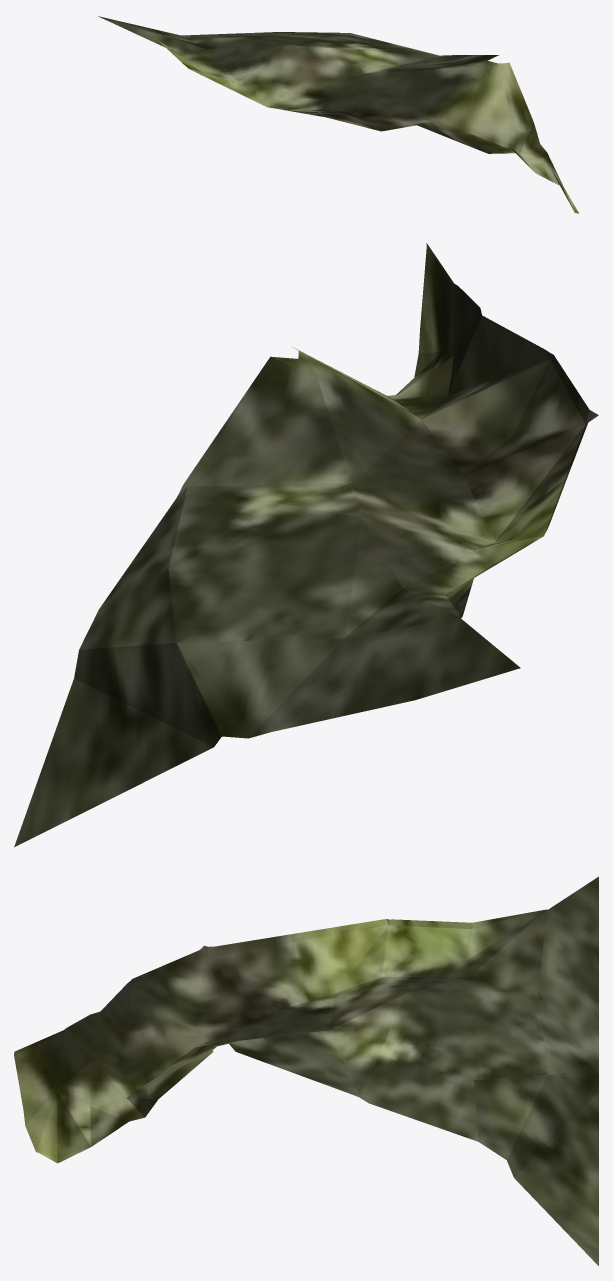
The picture shows the model from 3 angles, top to bottom: view 1: azimuth 30°, elevation 25°; view 2: azimuth 150°, elevation 25°; view 3: azimuth 270°, elevation 25°; orthographic projection. The views are drawn at different scales.
Size of the model in its own units: 0.9286 by 0.5306 by 1.31.
1 material, 1 textured.
